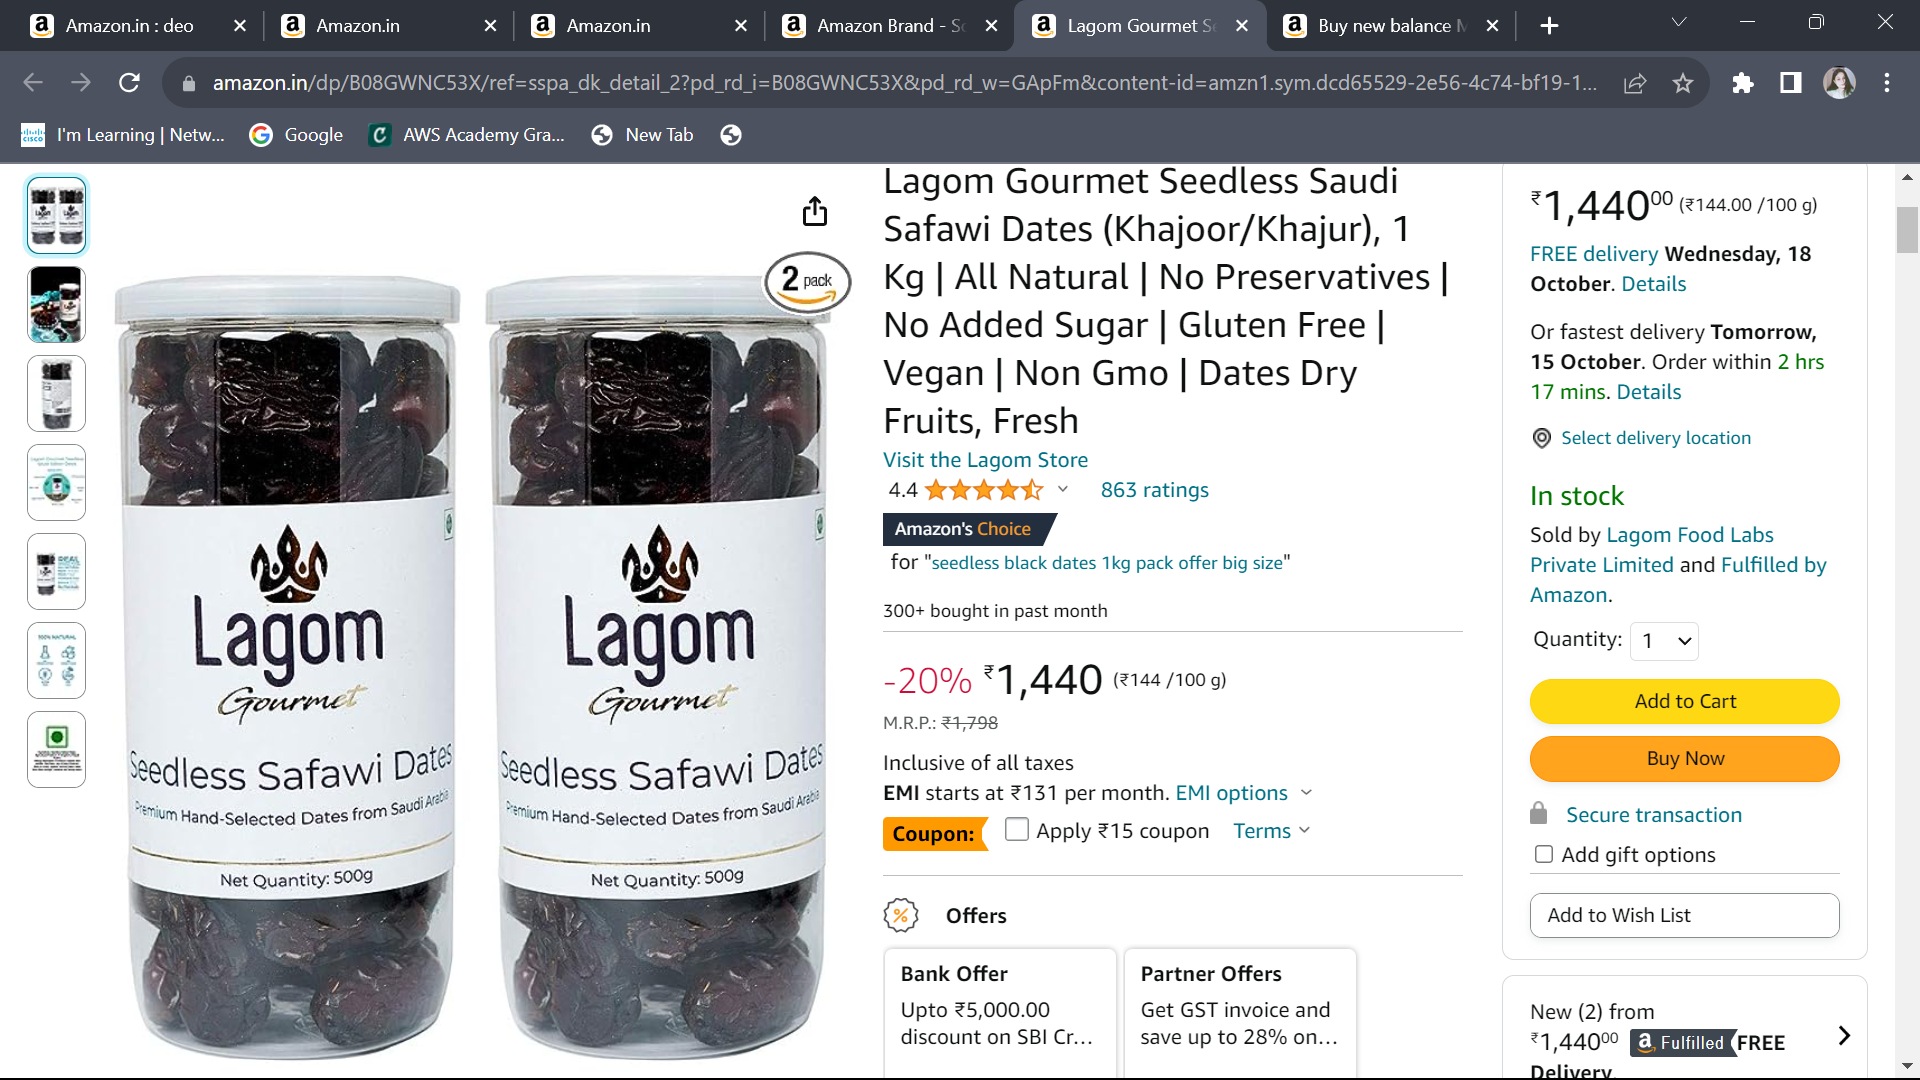Image: (113, 212, 839, 1063)
Paragraph: (878, 158, 1495, 465), (872, 895, 1386, 1080), (1520, 245, 1875, 406), (872, 753, 1356, 866), (1516, 687, 1875, 810), (872, 640, 1382, 725), (1520, 484, 1845, 600), (874, 477, 1230, 538), (1520, 173, 1840, 239), (1516, 406, 1774, 465), (1523, 630, 1731, 669)
